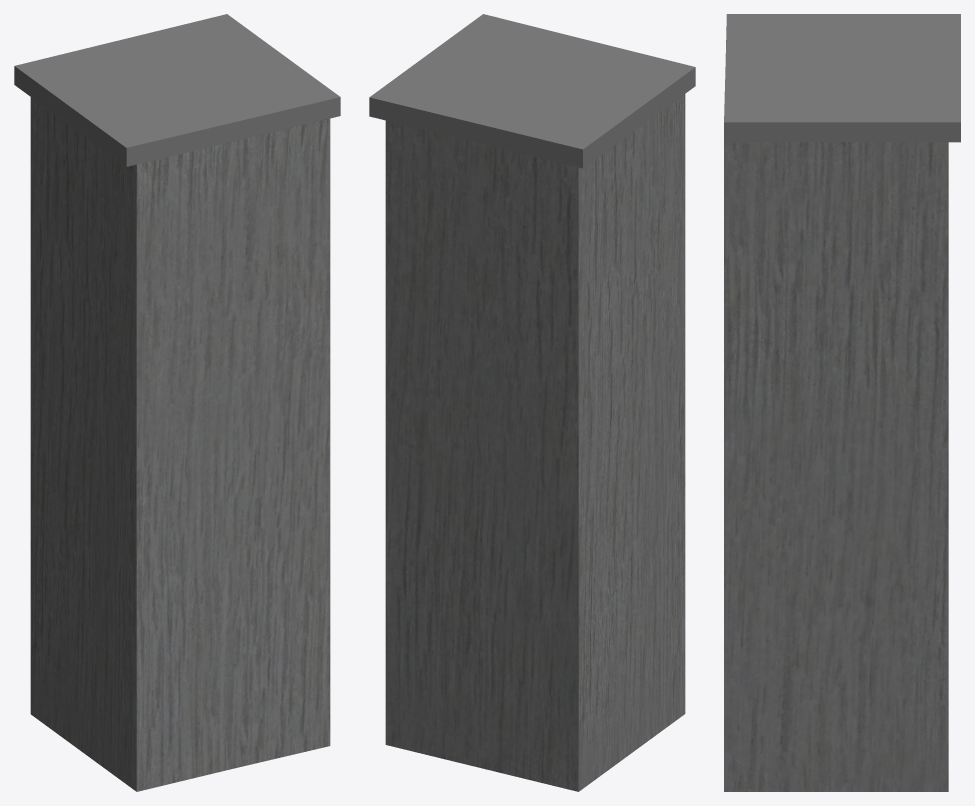
The model's file is SpireTowerBlock.obj.
3 renders of one model, left to right at view 1: azimuth 30°, elevation 25°; view 2: azimuth 150°, elevation 25°; view 3: azimuth 270°, elevation 25°, orthographic. The views are drawn at different scales.
Parts seen in each view (by area): view 1: polySurface1 pCube7; view 2: polySurface1 pCube7; view 3: polySurface1 pCube7.
Boxes of the visible parts, left/top/right/bottom form: polySurface1 pCube7: left=14, top=14, right=340, bottom=791; polySurface1 pCube7: left=369, top=14, right=695, bottom=791; polySurface1 pCube7: left=724, top=14, right=960, bottom=791.
Bounding box in the file's own units: 20.76 × 60.3 × 19.17.
Materials: 2 (1 with a texture image).
